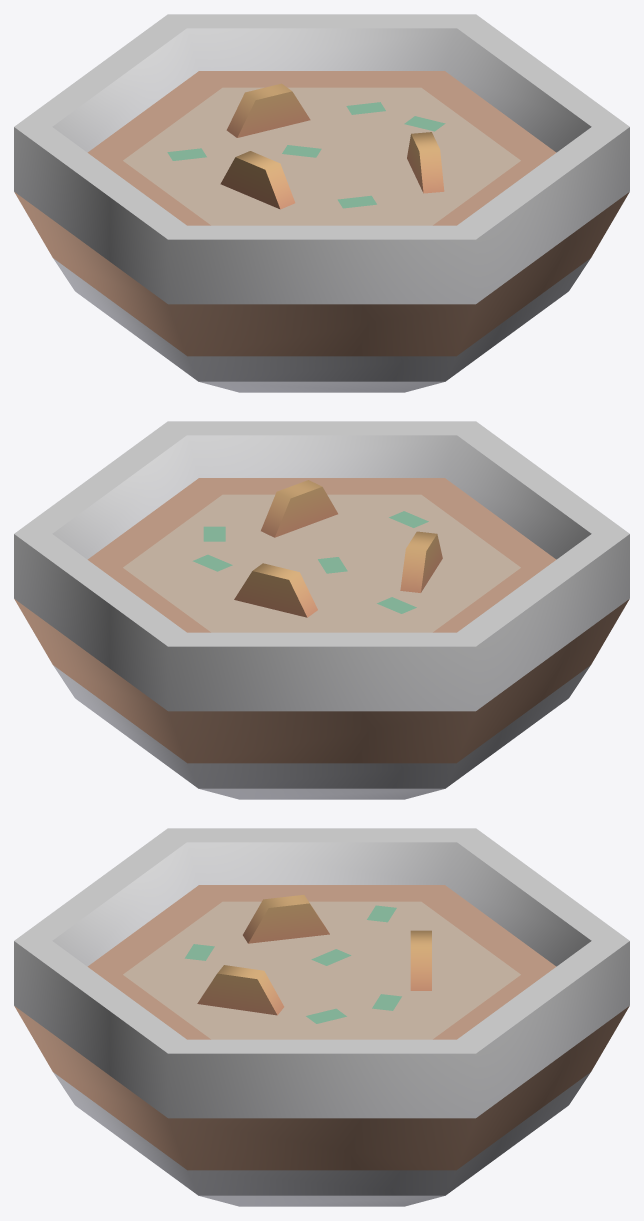
Rendered from bowl-soup.glb.
3 views of the same model, one above another, from view 1: azimuth 30°, elevation 25°; view 2: azimuth 150°, elevation 25°; view 3: azimuth 270°, elevation 25° (orthographic).
Visible parts, largest first — view 1: bowl-soup; view 2: bowl-soup; view 3: bowl-soup.
Boxes of the visible parts, x1,y1,x2,y2 form: bowl-soup: (14,14,629,392); bowl-soup: (14,421,629,799); bowl-soup: (14,828,629,1206).
Bounding box in the file's own units: 0.5022 × 0.2138 × 0.5798.
